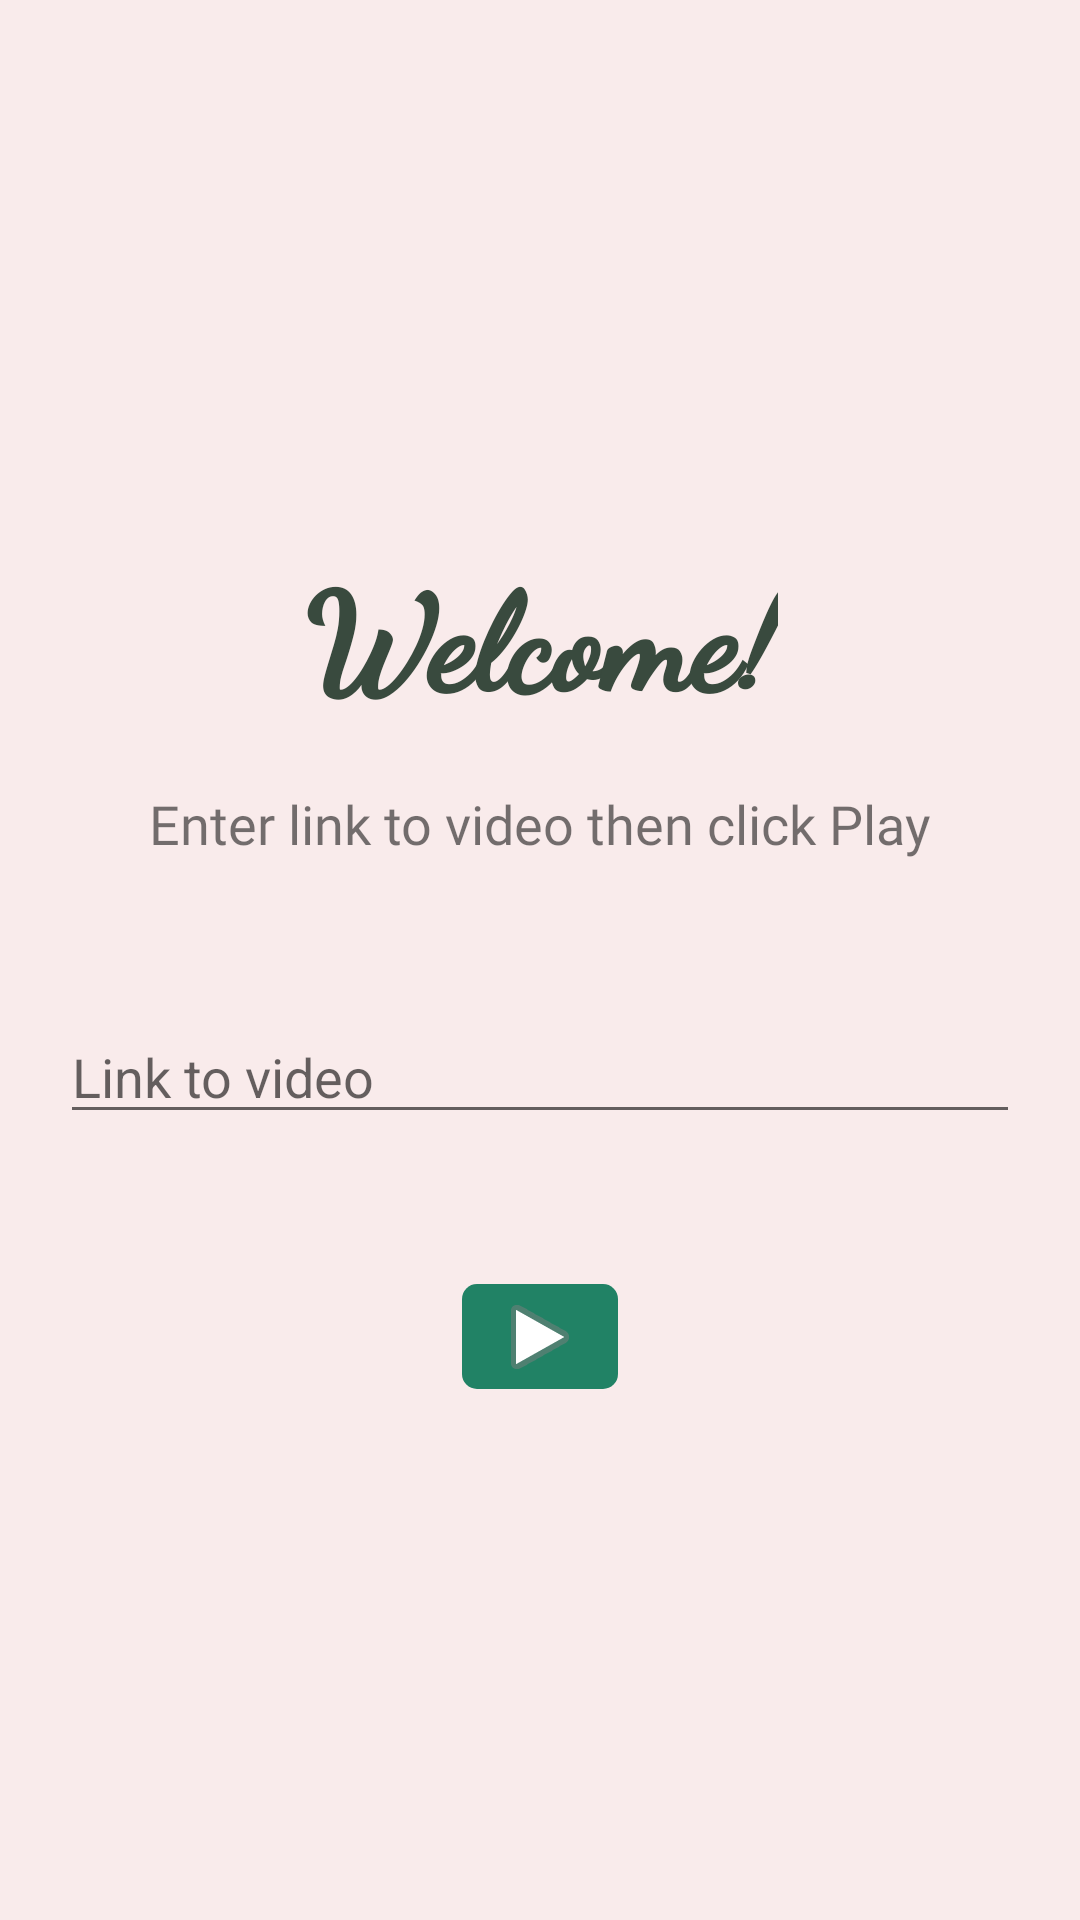

Icon bounding boxes for this 1080 x 1920 phone screenshot, format rect(x1, y1, x2, y2):
play: rect(462, 1284, 618, 1389)
